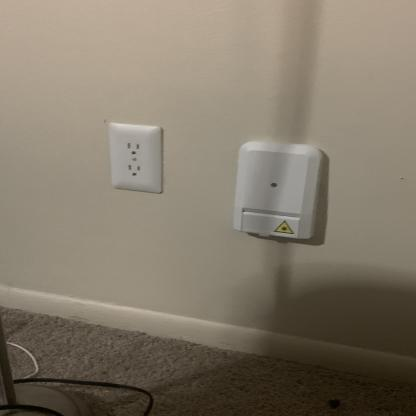OUTLET: (107, 123, 164, 193)
